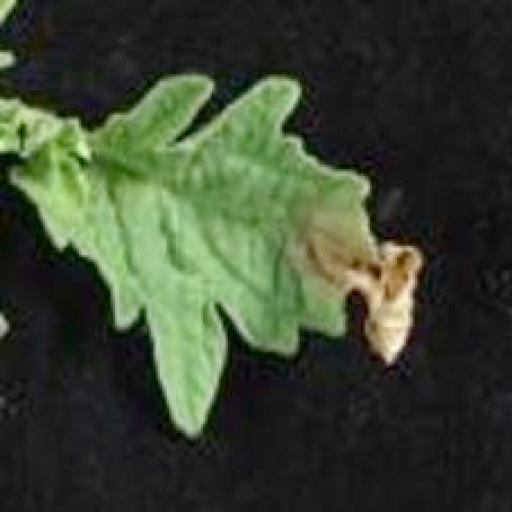disease_tomato: (10, 75, 426, 445)
